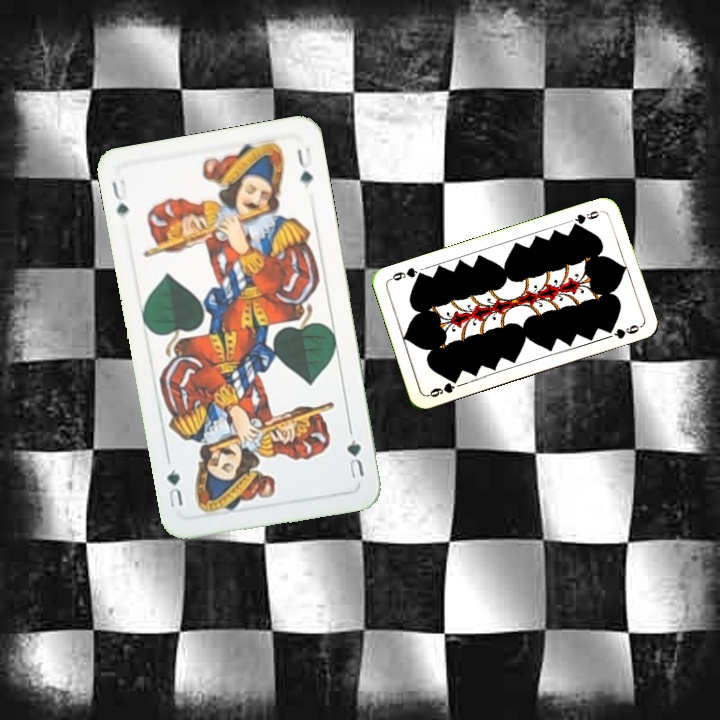G9: (423, 374, 461, 400), (568, 206, 605, 230)
GU: (342, 435, 367, 481), (108, 175, 131, 223)
